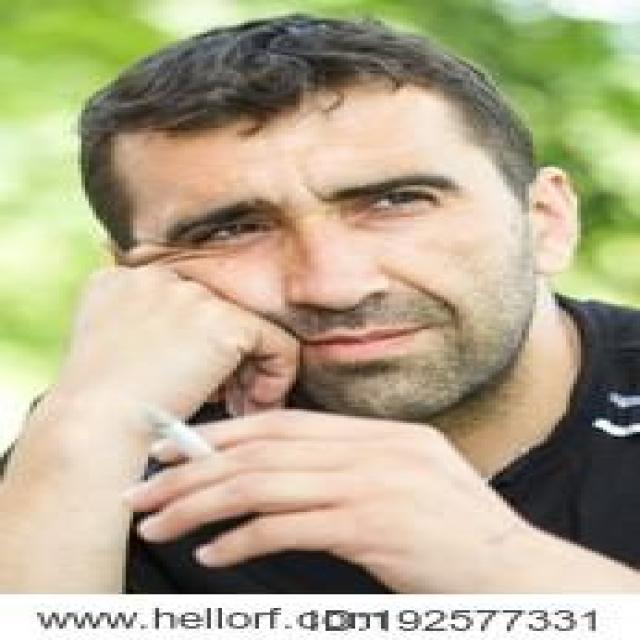Сигарета: (139, 403, 220, 463)
Тело: (3, 13, 640, 640)
